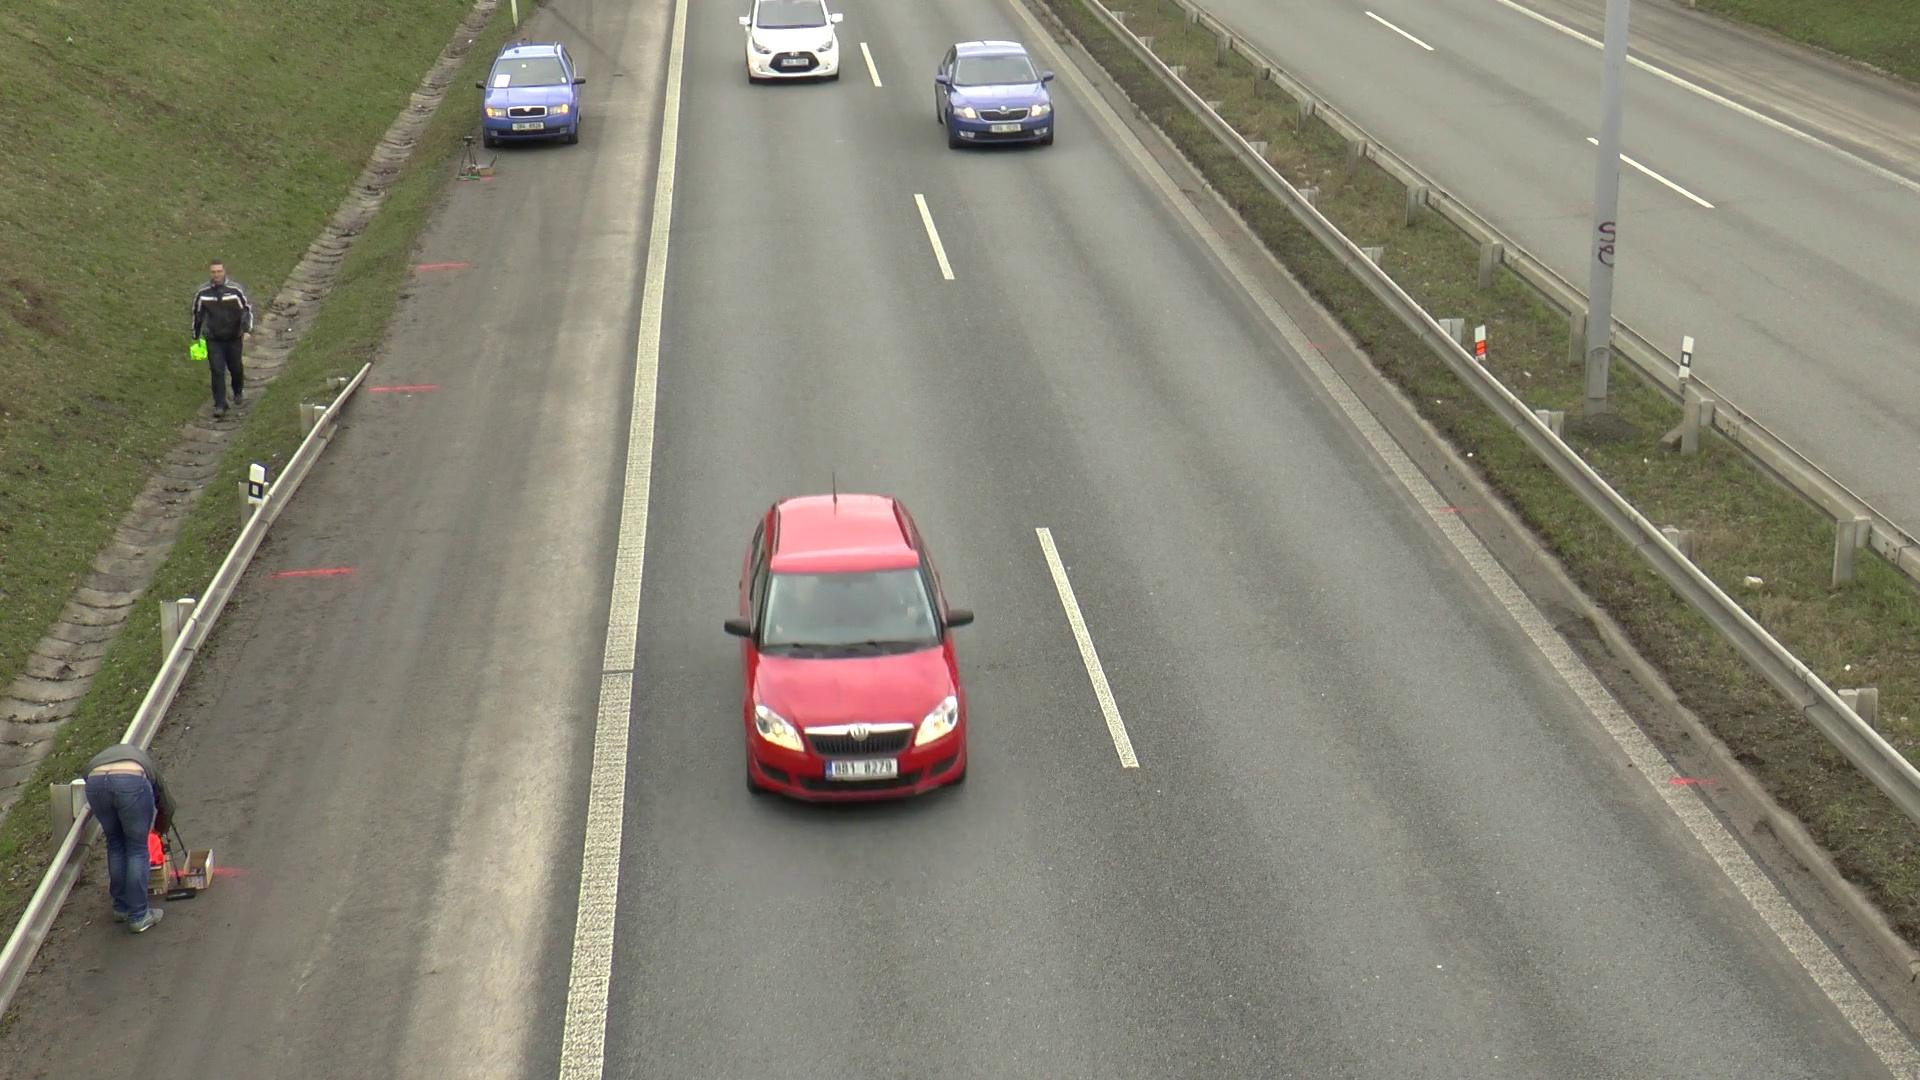Car: (744, 492, 979, 825), (930, 34, 1070, 166), (720, 0, 878, 106), (488, 40, 576, 174)
Human: (70, 730, 216, 941), (188, 252, 259, 424)
